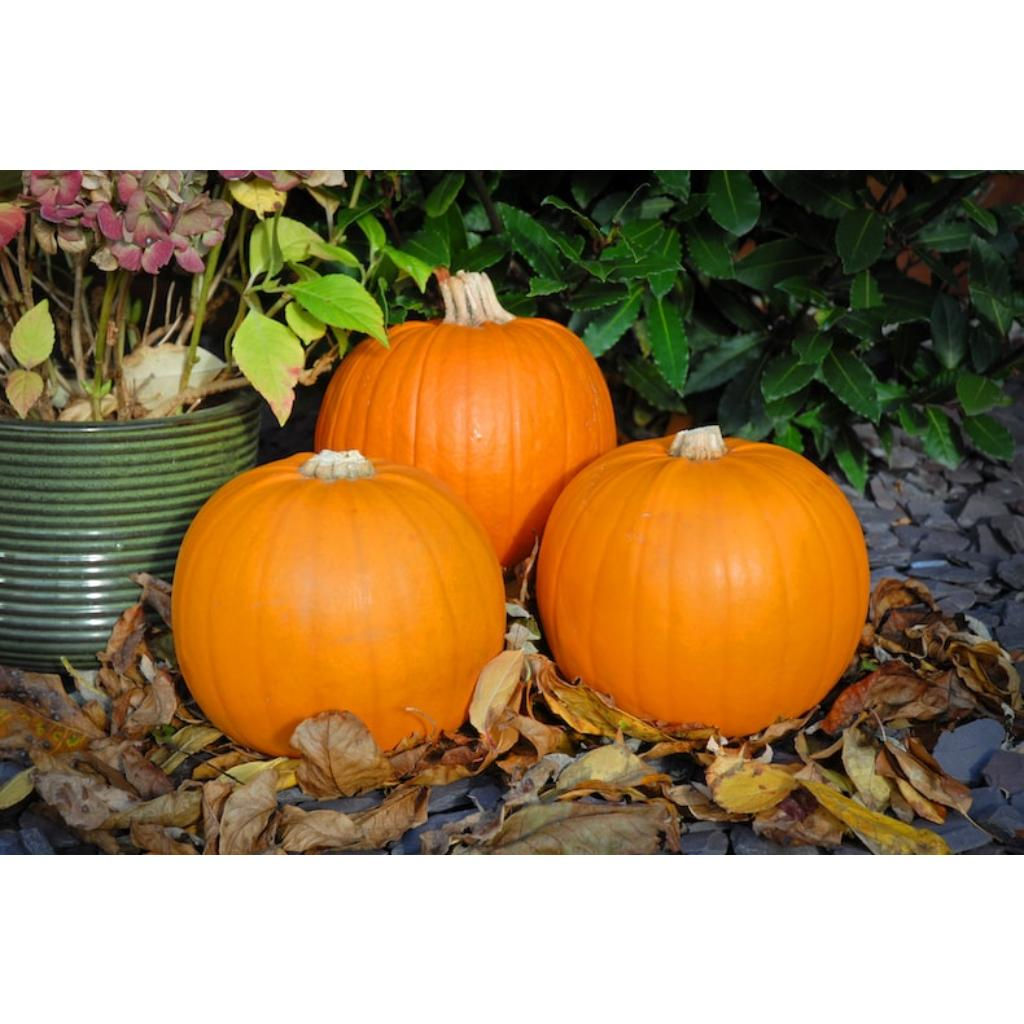pumpkin: (536, 425, 870, 737), (172, 449, 506, 754), (316, 267, 616, 564)
